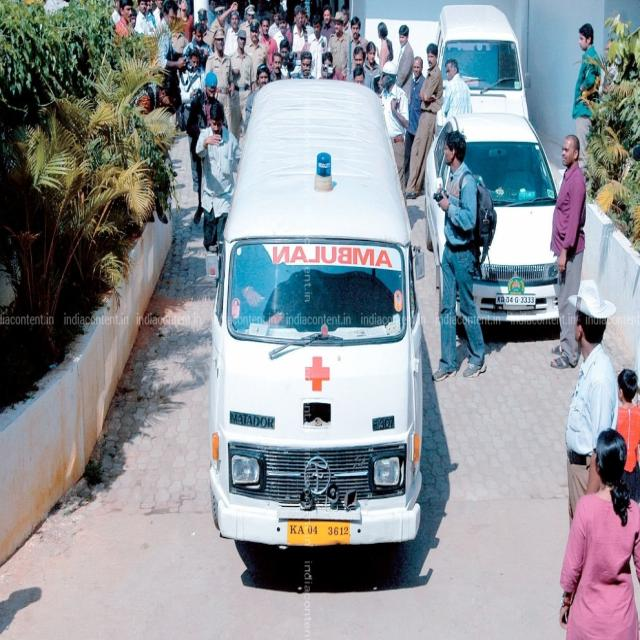car: (425, 115, 559, 323), (435, 6, 529, 117)
emergency: (209, 81, 424, 547)
